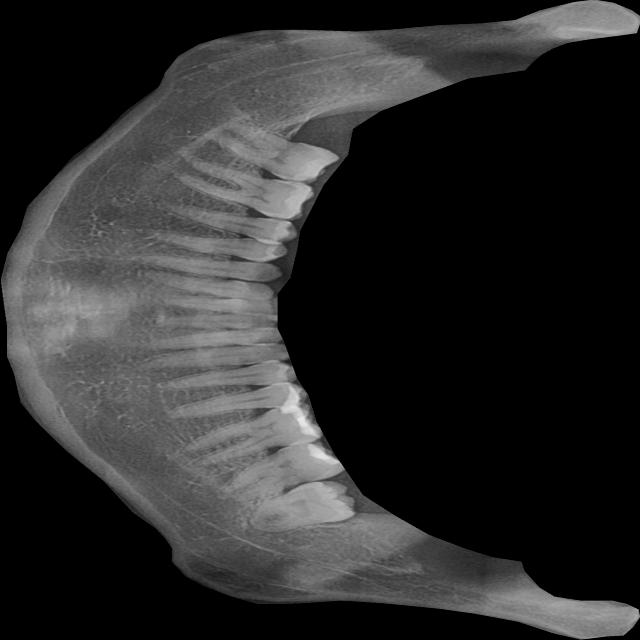mandibula: (0, 0, 639, 640)
